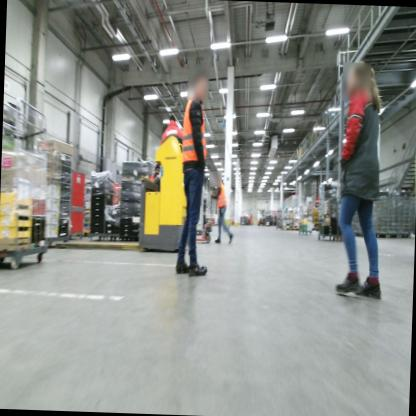pallet_truck: (49, 127, 198, 258), (185, 187, 221, 246)
